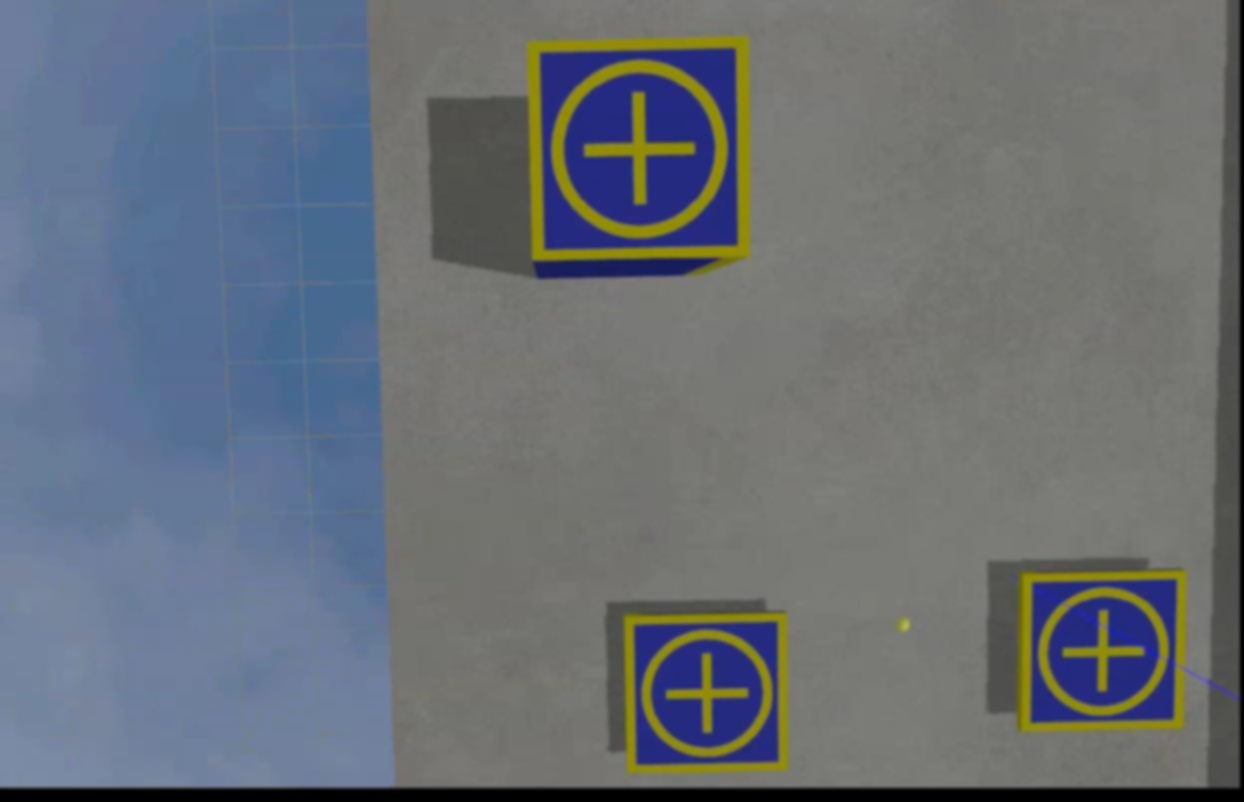small_base: (527, 36, 757, 265), (1017, 570, 1188, 734), (623, 611, 789, 774)
